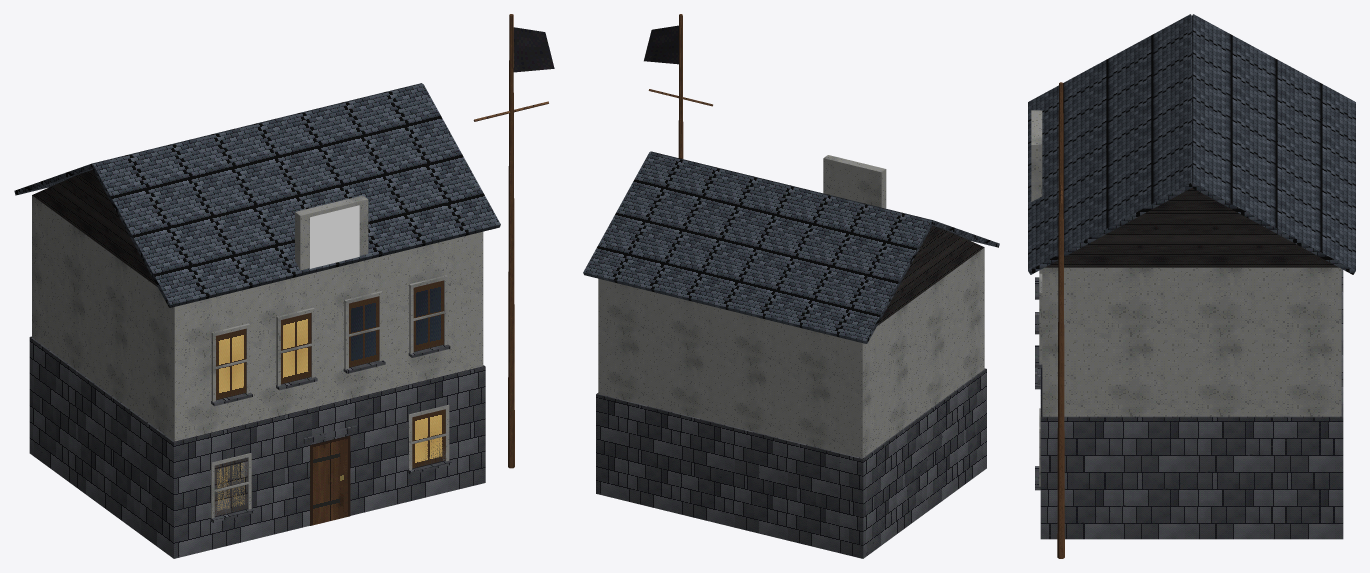
File: capitania.obj
The picture shows the model from 3 angles, left to right: view 1: azimuth 30°, elevation 25°; view 2: azimuth 150°, elevation 25°; view 3: azimuth 270°, elevation 25°; orthographic projection. The views are drawn at different scales.
Visible parts, largest first — view 1: capitania; view 2: capitania; view 3: capitania.
Boxes of the visible parts, x1,y1,x2,y2 form: capitania: (14,14,554,558); capitania: (583,14,999,558); capitania: (1028,14,1355,558).
Size of the model in its own units: 12.95 by 14 by 8.77.
Materials: 10 (9 with a texture image).
